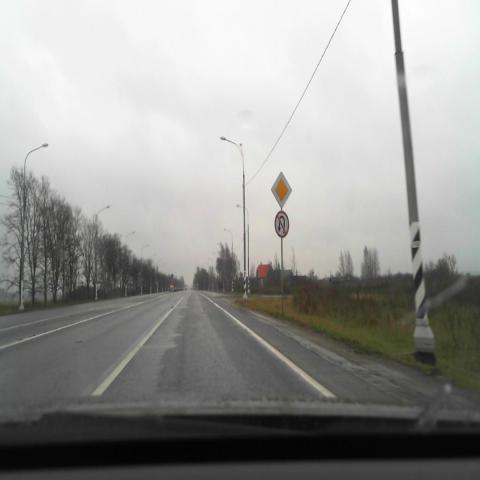3_19: (275, 211, 289, 237)
